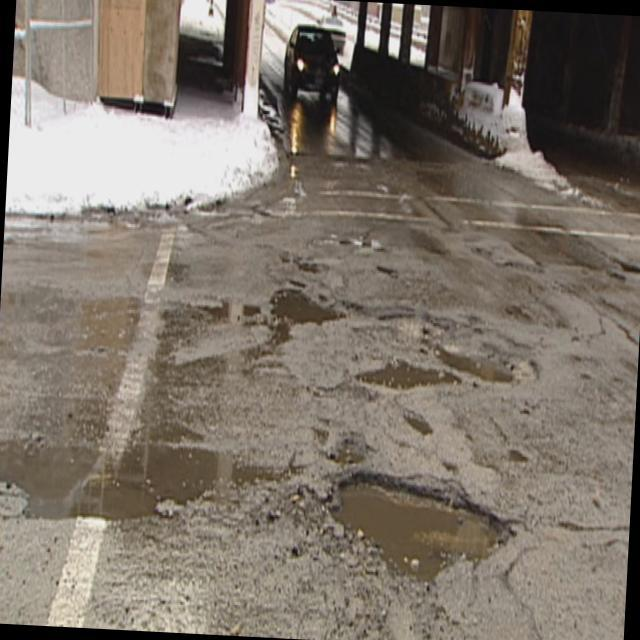Pothole: (0, 272, 293, 576), (318, 442, 545, 612), (226, 283, 380, 358), (434, 342, 546, 406), (372, 294, 454, 359), (359, 352, 457, 398), (384, 399, 460, 448)
